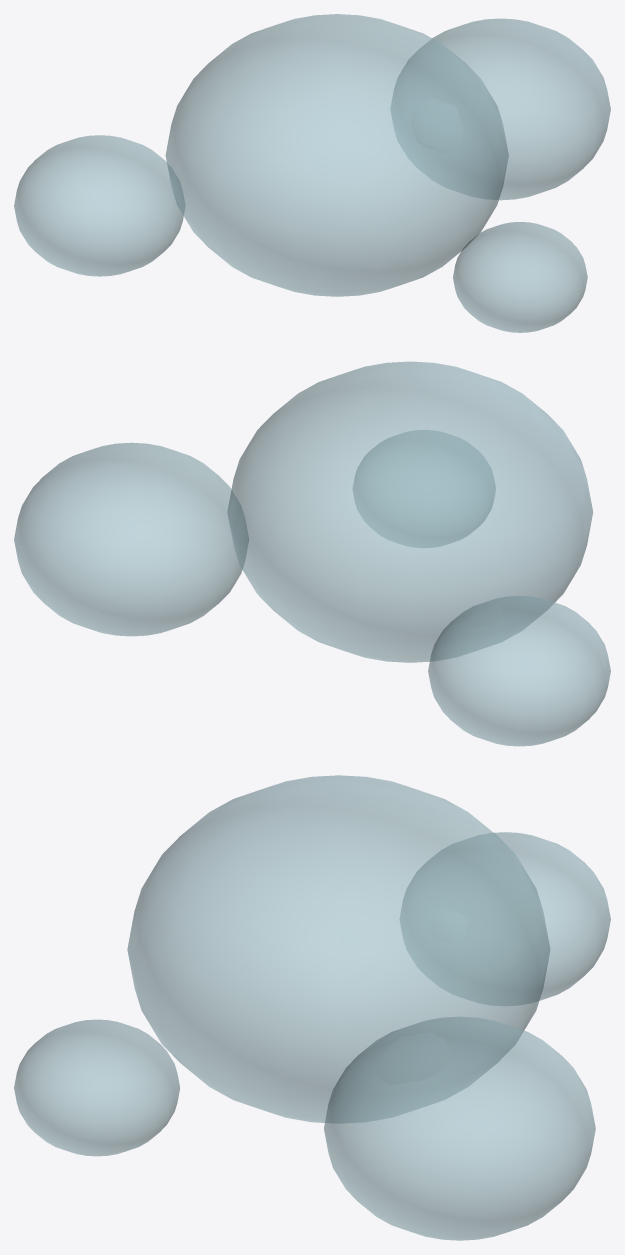
Rendered from glade_dewdrop_cluster.glb.
The picture shows the model from 3 angles, top to bottom: view 1: azimuth 30°, elevation 25°; view 2: azimuth 150°, elevation 25°; view 3: azimuth 270°, elevation 25°; orthographic projection. The views are drawn at different scales.
Visible parts, largest first — view 1: glade_dewdrop_cluster; view 2: glade_dewdrop_cluster; view 3: glade_dewdrop_cluster.
Boxes of the visible parts, box(x1,y1,x2,y2) form: glade_dewdrop_cluster: box(14, 14, 610, 332); glade_dewdrop_cluster: box(14, 361, 610, 746); glade_dewdrop_cluster: box(14, 775, 610, 1240).
Size of the model in its own units: 5.71 by 2.4 by 4.34.
